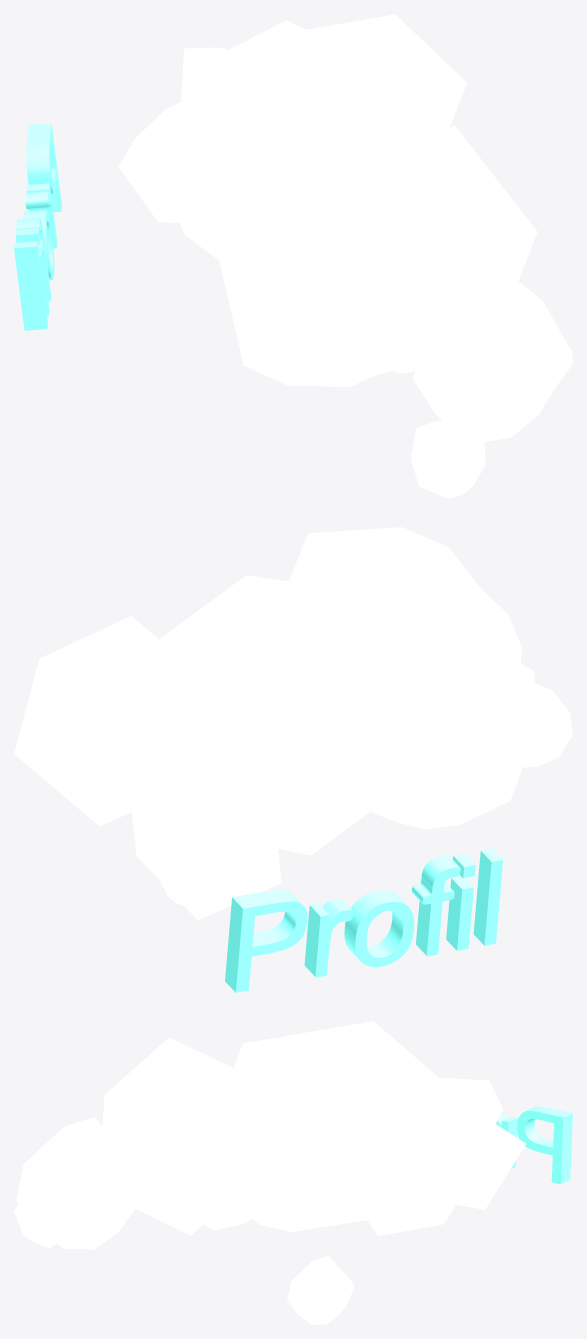
Rendered from cloud3.glb.
The picture shows the model from 3 angles, top to bottom: view 1: azimuth 30°, elevation 25°; view 2: azimuth 150°, elevation 25°; view 3: azimuth 270°, elevation 25°; orthographic projection. The views are drawn at different scales.
Visible parts, largest first — view 1: Объект_Платоново_тело1_2, Объект_Платоново_тело_8, Объект_Платоново_тело1_1, Объект_Платоново_тело_2, Объект_Платоново_тело_7, 3d-drawingglb, Объект_Платоново_тело_1, Объект_Платоново_тело_5, Объект_Платоново_тело_6; view 2: Объект_Платоново_тело1_2, Объект_Платоново_тело1_1, Объект_Платоново_тело_7, 3d-drawingglb, Объект_Платоново_тело_8, Объект_Платоново_тело_5, Объект_Платоново_тело_6, Объект_Платоново_тело_3, Объект_Платоново_тело_1, Объект_Платоново_тело_2; view 3: Объект_Платоново_тело1_2, Объект_Платоново_тело_8, Объект_Платоново_тело_7, Объект_Платоново_тело_2, Объект_Платоново_тело_4, 3d-drawingglb, Объект_Платоново_тело_6, Объект_Платоново_тело_5, Объект_Платоново_тело1_1, Объект_Платоново_тело_1.
Part boxes in pixels (<box>): Объект_Платоново_тело1_2: <box>162,20,445,260</box>; Объект_Платоново_тело_8: <box>285,125,537,377</box>; Объект_Платоново_тело1_1: <box>214,182,446,386</box>; Объект_Платоново_тело_2: <box>413,254,572,441</box>; Объект_Платоново_тело_7: <box>271,14,466,180</box>; 3d-drawingglb: <box>14,123,61,330</box>; Объект_Платоново_тело_1: <box>410,421,485,498</box>; Объект_Платоново_тело_5: <box>118,102,277,222</box>; Объект_Платоново_тело_6: <box>180,47,269,149</box>; Объект_Платоново_тело1_2: <box>123,575,443,855</box>; Объект_Платоново_тело1_1: <box>290,612,534,829</box>; Объект_Платоново_тело_7: <box>14,616,216,826</box>; 3d-drawingglb: <box>225,848,502,992</box>; Объект_Платоново_тело_8: <box>254,527,508,764</box>; Объект_Платоново_тело_5: <box>129,752,281,920</box>; Объект_Платоново_тело_6: <box>126,697,252,829</box>; Объект_Платоново_тело_3: <box>164,777,261,862</box>; Объект_Платоново_тело_1: <box>523,683,572,767</box>; Объект_Платоново_тело_2: <box>483,591,521,663</box>; Объект_Платоново_тело1_2: <box>197,1021,458,1231</box>; Объект_Платоново_тело_8: <box>99,1037,261,1235</box>; Объект_Платоново_тело_7: <box>333,1095,482,1236</box>; Объект_Платоново_тело_2: <box>16,1117,147,1249</box>; Объект_Платоново_тело_4: <box>287,1255,354,1324</box>; 3d-drawingglb: <box>496,1106,572,1184</box>; Объект_Платоново_тело_6: <box>428,1077,502,1156</box>; Объект_Платоново_тело_5: <box>454,1101,525,1209</box>; Объект_Платоново_тело1_1: <box>144,1071,297,1230</box>; Объект_Платоново_тело_1: <box>14,1204,56,1247</box>.
Size of the model in its own units: 3.31 by 2.5 by 4.76.
